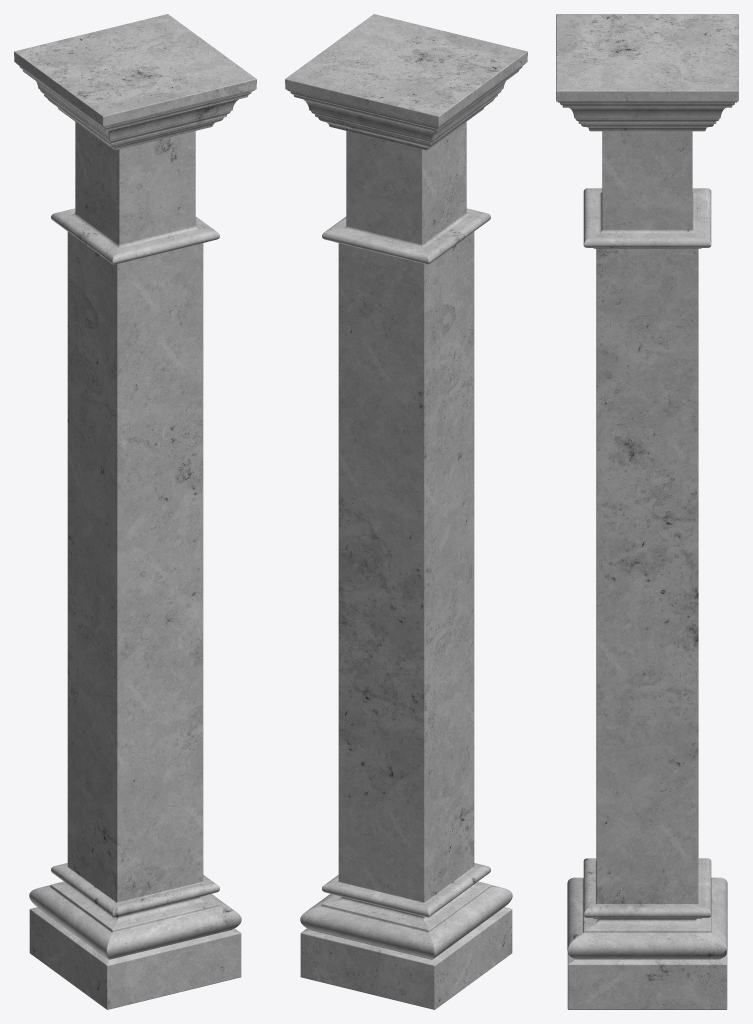
The model's file is bk-marble-column.glb.
The picture shows the model from 3 angles, left to right: view 1: azimuth 30°, elevation 25°; view 2: azimuth 150°, elevation 25°; view 3: azimuth 270°, elevation 25°; orthographic projection. The views are drawn at different scales.
Visible parts, largest first — view 1: Cube; view 2: Cube; view 3: Cube.
Part boxes in pixels (box(x1,y1,x2,y2)): Cube: box(14, 14, 256, 1009); Cube: box(285, 14, 527, 1009); Cube: box(556, 14, 738, 1009).
Size of the model in its own units: 0.1792 by 1 by 0.1792.
Materials: 1 (1 with a texture image).
